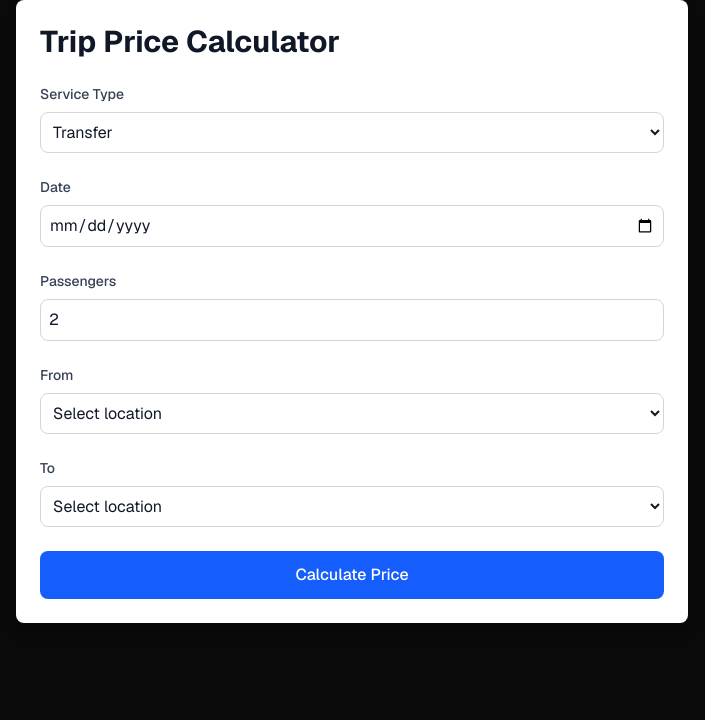
Test: Calculator Component › Happy Path › should calculate transfer price successfully
Select "Transfer" in the dropdown labelled "Service Type". click: [352, 132]
box: [40, 112, 664, 153]
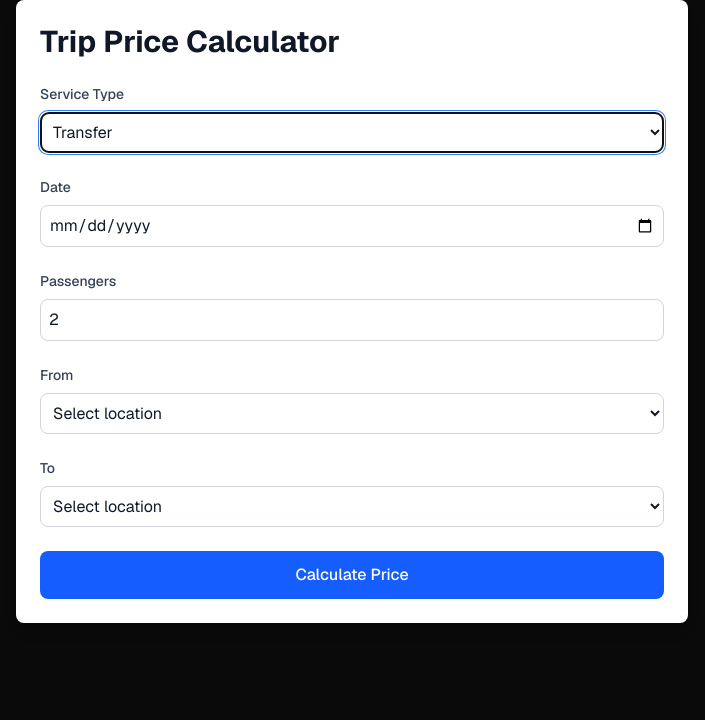
Type "2024-07-15" into the date field labelled "Date". click: [352, 226]
box: [40, 205, 664, 247]
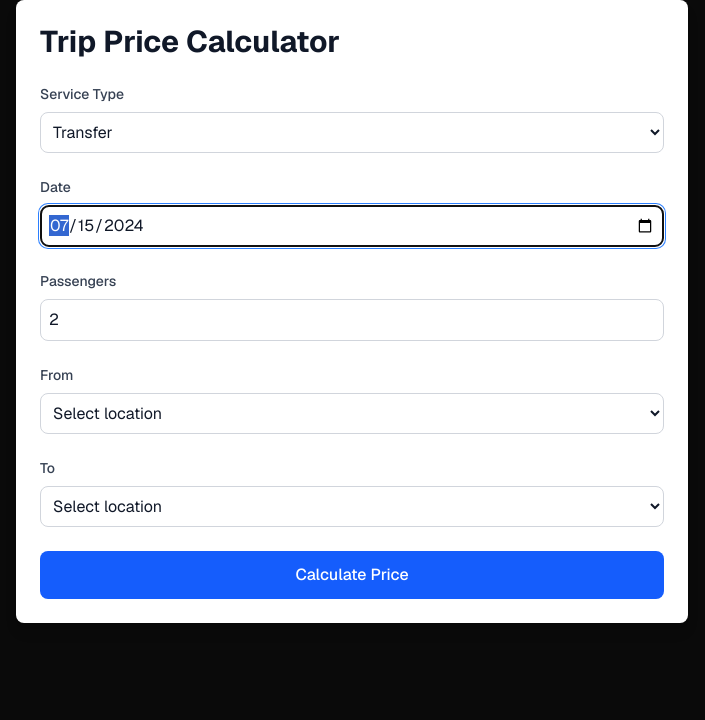
Replace the text in the number field labelled "Passengers" with "4". click: [352, 320]
box: [40, 299, 664, 341]
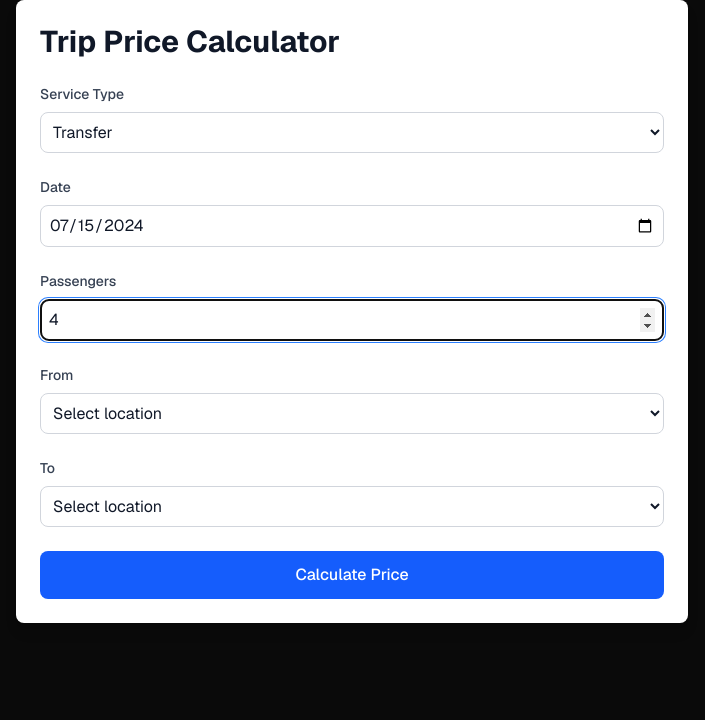
Select "Dubrovnik" in the dropdown labelled "From". click: [352, 414]
box: [40, 393, 664, 434]
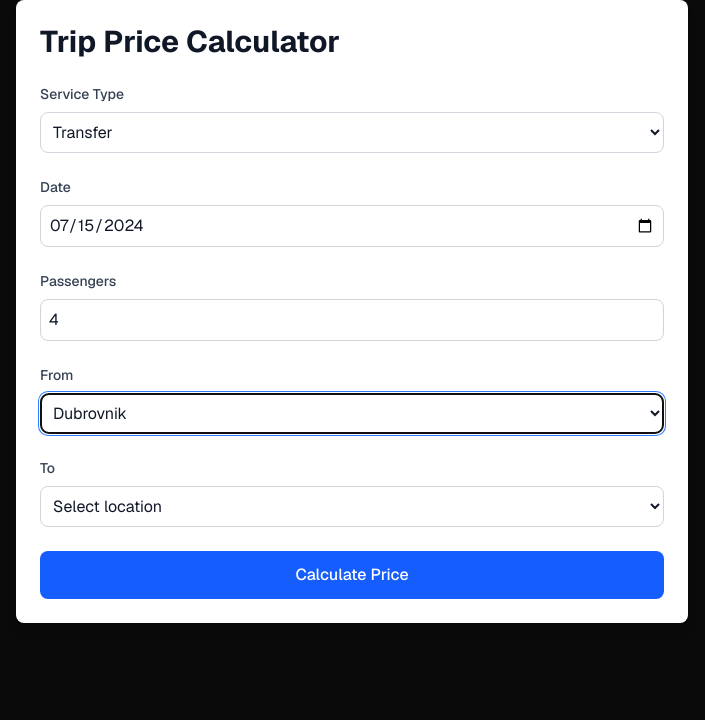
Select "Cavtat" in the dropdown labelled "To". click: [352, 506]
box: [40, 486, 664, 527]
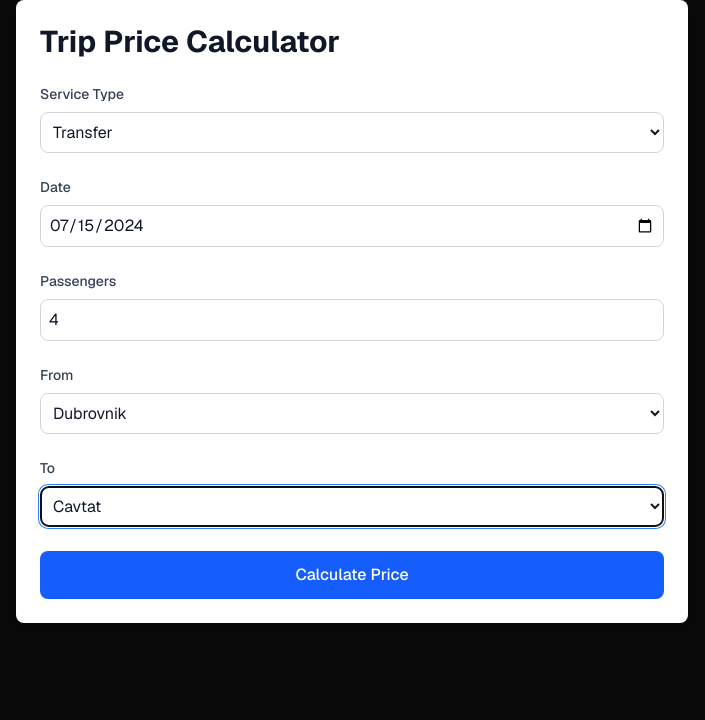
Click the button "Calculate Price". click: [352, 575]
box: [40, 551, 664, 599]
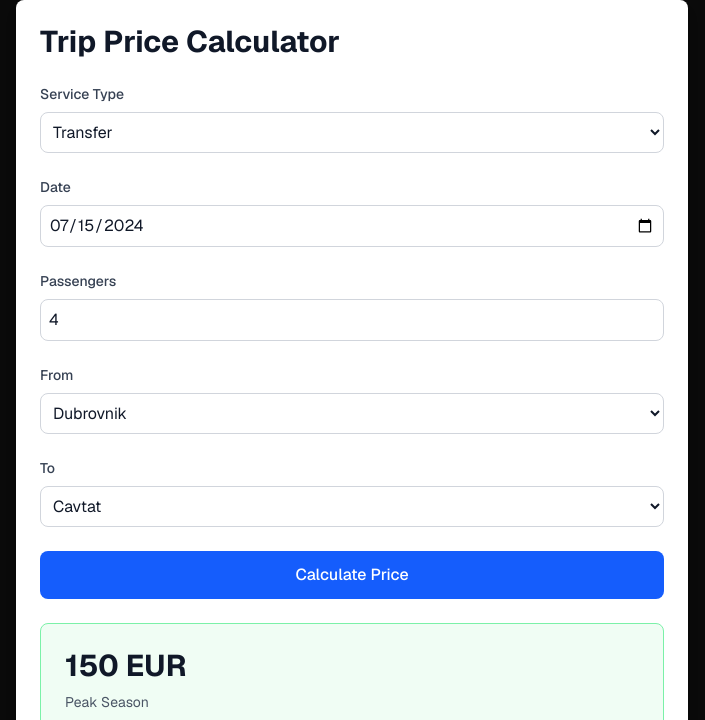
Result: the text "150 EUR" is shown at [65, 646, 187, 685]
Result: the text "Peak Season" is shown at [65, 693, 149, 711]
